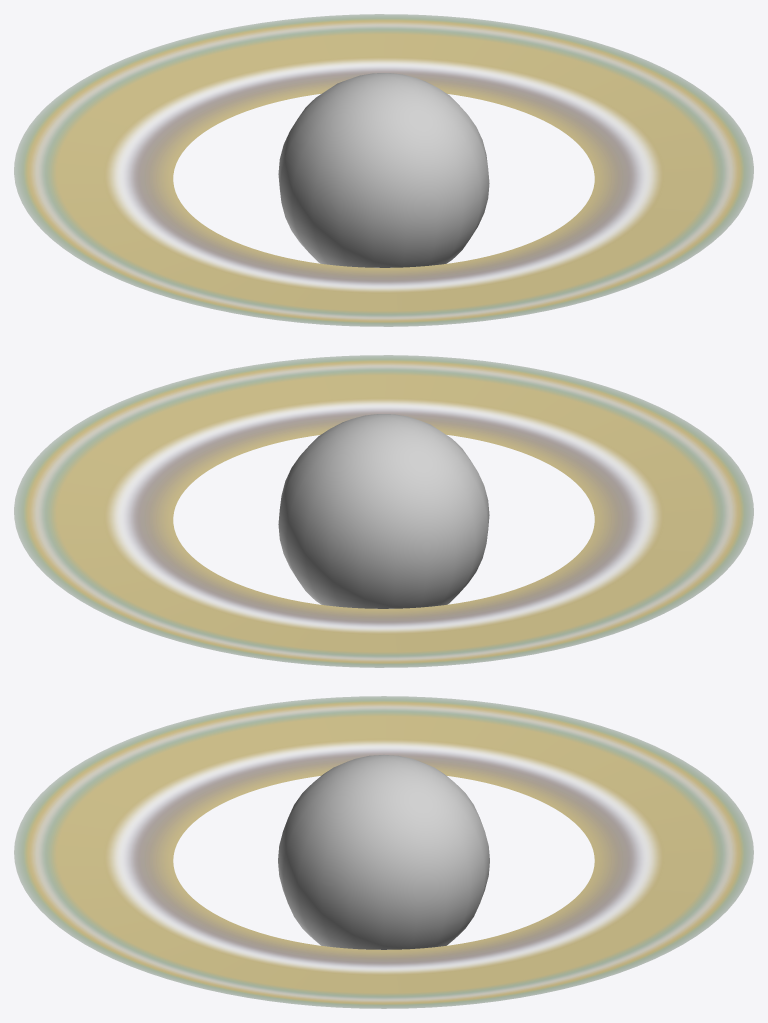
Rendered from Saturn.dae.
3 renders of one model, top to bottom at view 1: azimuth 30°, elevation 25°; view 2: azimuth 150°, elevation 25°; view 3: azimuth 270°, elevation 25°, orthographic.
Visible parts, largest first — view 1: pTorus1, pSphere1; view 2: pTorus1, pSphere1; view 3: pTorus1, pSphere1.
Part boxes in pixels (x1,y1,x2,y2): pTorus1: (14, 14, 753, 326); pSphere1: (278, 73, 489, 267); pTorus1: (14, 355, 753, 667); pSphere1: (278, 414, 489, 608); pTorus1: (14, 696, 753, 1008); pSphere1: (278, 755, 489, 949).
Size of the model in its own units: 420 by 121 by 420.
